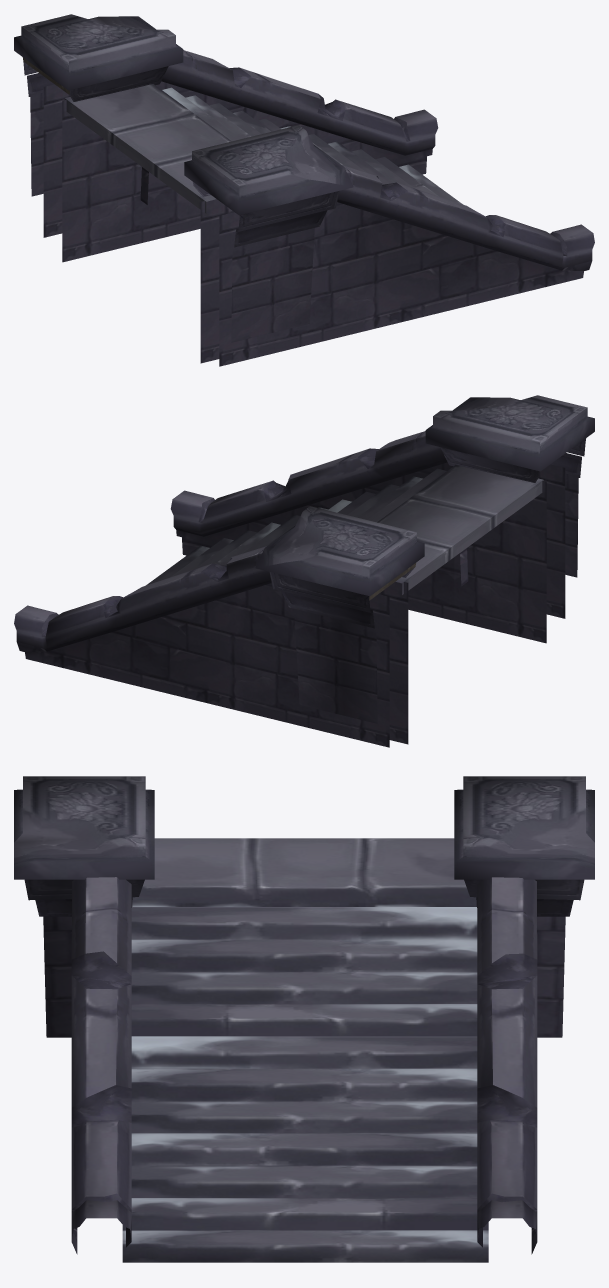
File: Beidaying_bosstaijie02.FBX
3 renders of one model, top to bottom at view 1: azimuth 30°, elevation 25°; view 2: azimuth 150°, elevation 25°; view 3: azimuth 270°, elevation 25°, orthographic. The views are drawn at different scales.
Visible parts, largest first — view 1: wz; view 2: wz; view 3: wz.
Boxes of the visible parts, bbox=[...] form: wz: bbox=[14, 14, 594, 366]; wz: bbox=[14, 395, 594, 747]; wz: bbox=[14, 776, 594, 1262].
Bounding box in the file's own units: 231 × 236 × 120.
